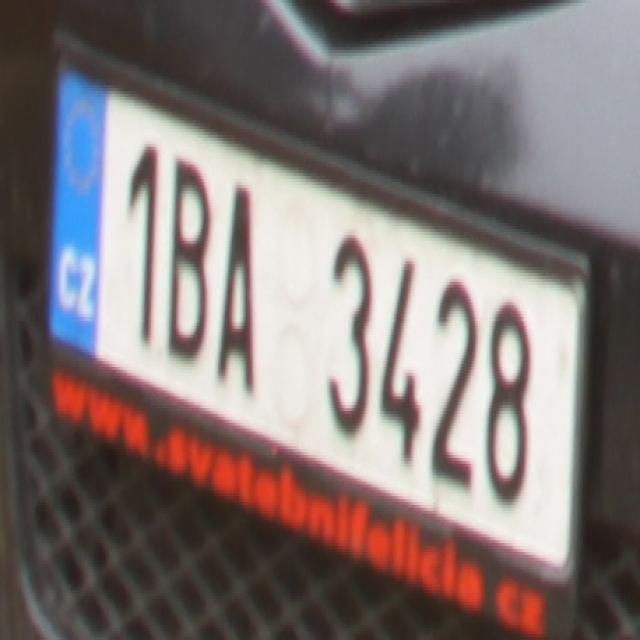1: (122, 141, 156, 355)
2: (430, 264, 478, 496)
3: (328, 226, 371, 440)
4: (378, 247, 423, 476)
8: (488, 291, 531, 502)
A: (217, 176, 257, 388)
B: (166, 153, 211, 364)
